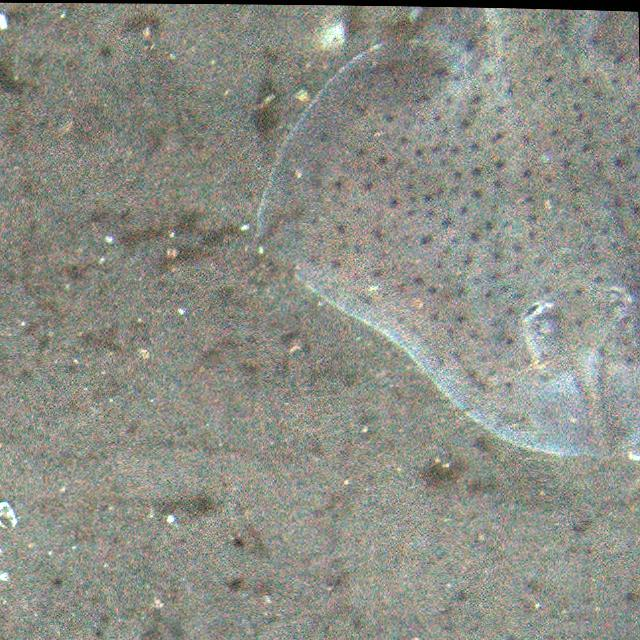skate: (261, 33, 640, 465)
